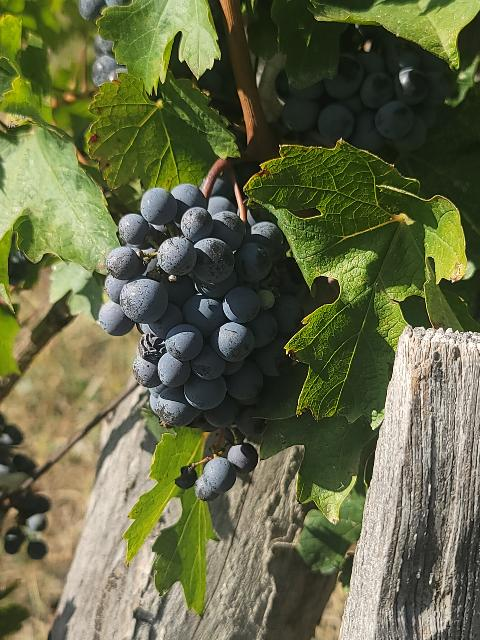grapes: (100, 184, 302, 428)
